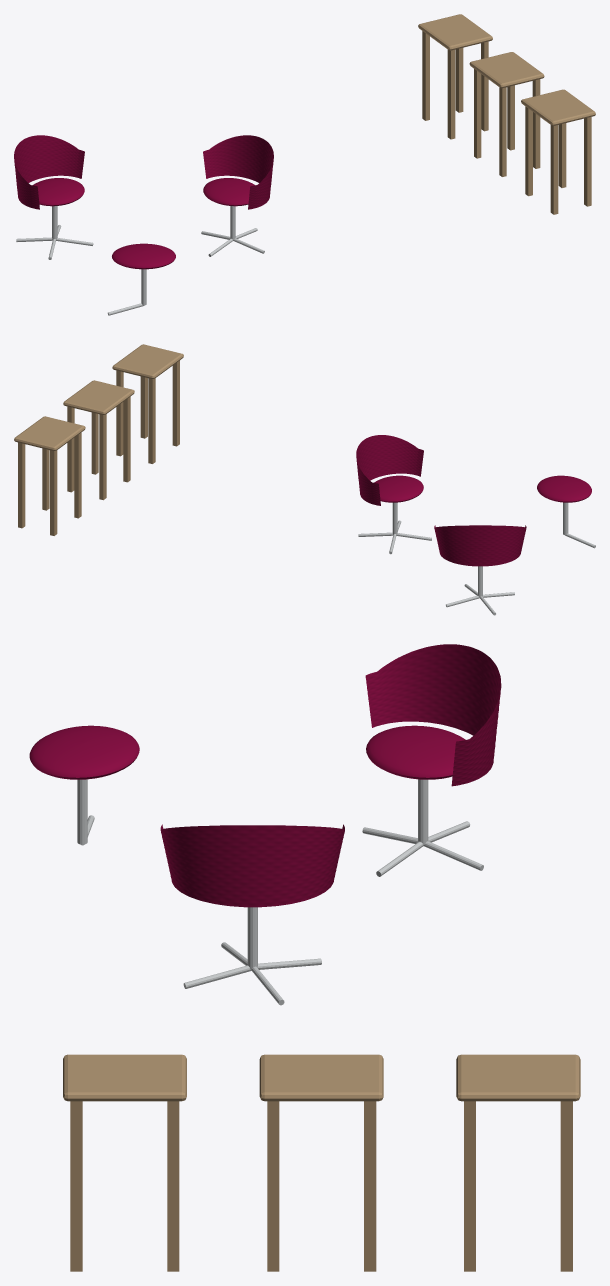
Rendered from SM_L5_Furniture_Solid_b53db42c9d_0.fbx.
3 views of the same model, one above another, from view 1: azimuth 30°, elevation 25°; view 2: azimuth 150°, elevation 25°; view 3: azimuth 270°, elevation 25° (orthographic). The views are drawn at different scales.
Visible parts, largest first — view 1: SM_L5_Furniture_Solid_b53db42c9d_0; view 2: SM_L5_Furniture_Solid_b53db42c9d_0; view 3: SM_L5_Furniture_Solid_b53db42c9d_0.
Boxes of the visible parts, x1,y1,x2,y2 form: SM_L5_Furniture_Solid_b53db42c9d_0: (14,14,595,315); SM_L5_Furniture_Solid_b53db42c9d_0: (14,344,595,615); SM_L5_Furniture_Solid_b53db42c9d_0: (29,644,580,1271).
Bounding box in the file's own units: 4.38 × 2.24 × 0.84.
